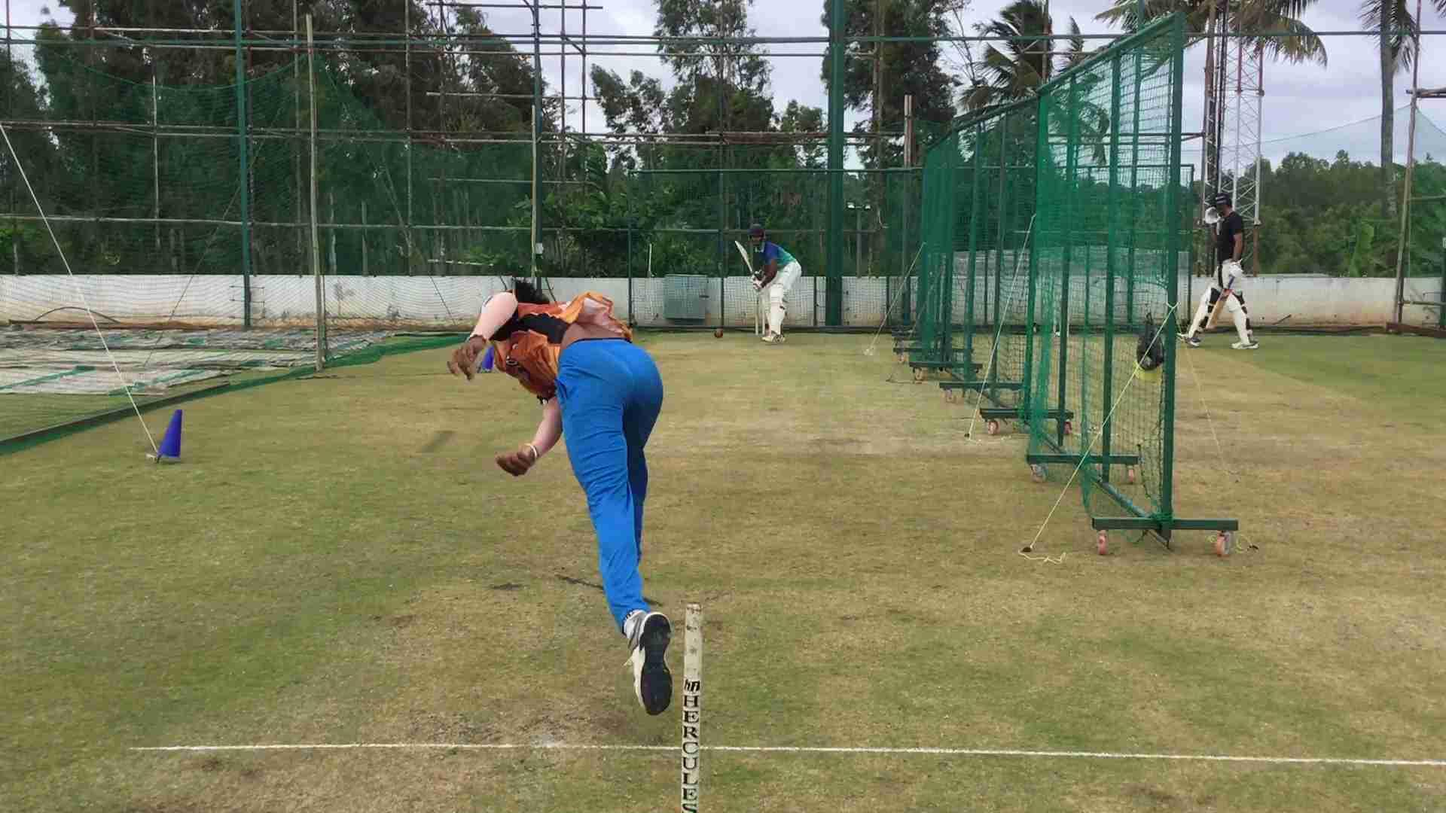batsman: (742, 215, 807, 348)
